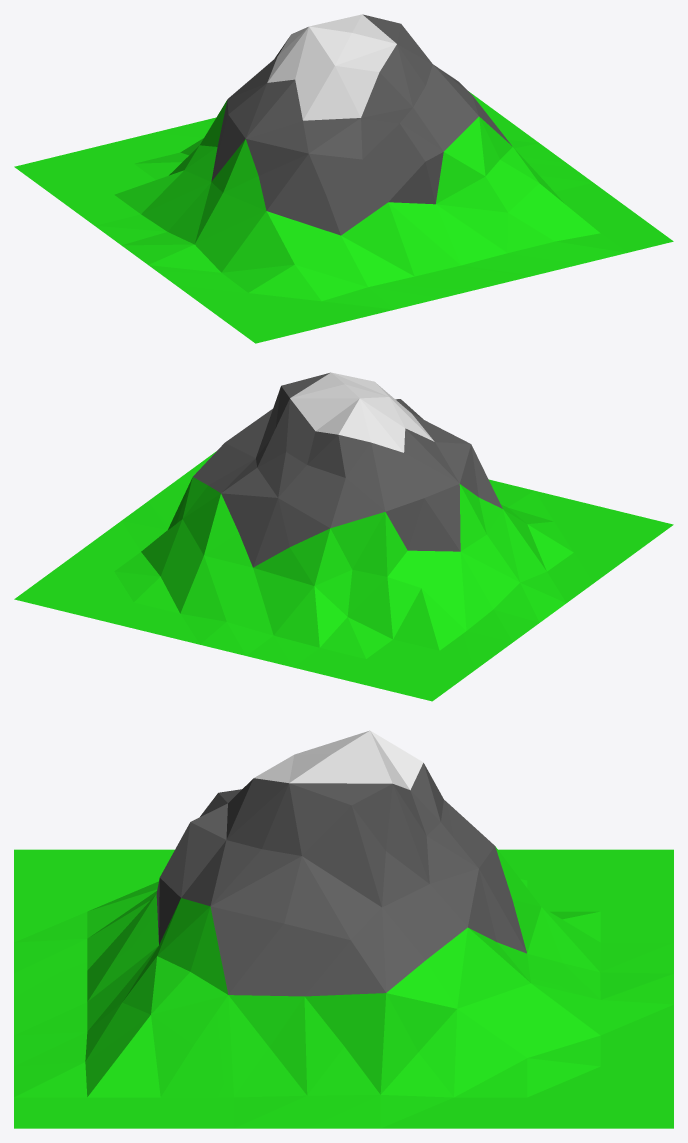
The model's file is Mountain2.fbx.
The picture shows the model from 3 angles, top to bottom: view 1: azimuth 30°, elevation 25°; view 2: azimuth 150°, elevation 25°; view 3: azimuth 270°, elevation 25°; orthographic projection. The views are drawn at different scales.
Parts seen in each view (by area): view 1: Mountain2; view 2: Mountain2; view 3: Mountain2.
Part boxes in pixels (bbox=[...]): Mountain2: bbox=[14, 14, 673, 343]; Mountain2: bbox=[14, 372, 673, 701]; Mountain2: bbox=[14, 730, 673, 1128].
Bounding box in the file's own units: 6000 × 2424 × 6000.
